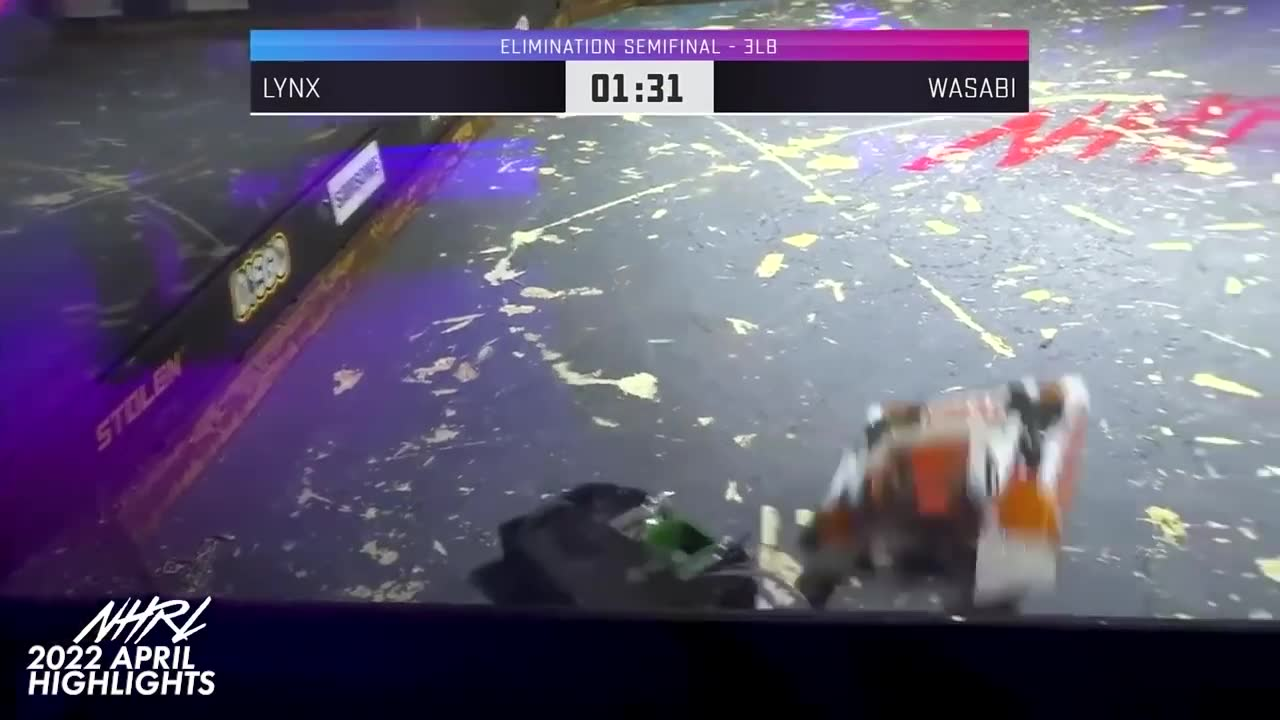combatbot: (794, 369, 1090, 609), (497, 480, 755, 606)
